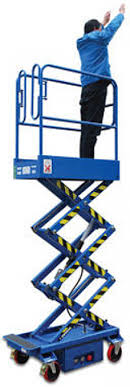Scissor Lift: (1, 61, 124, 384)
